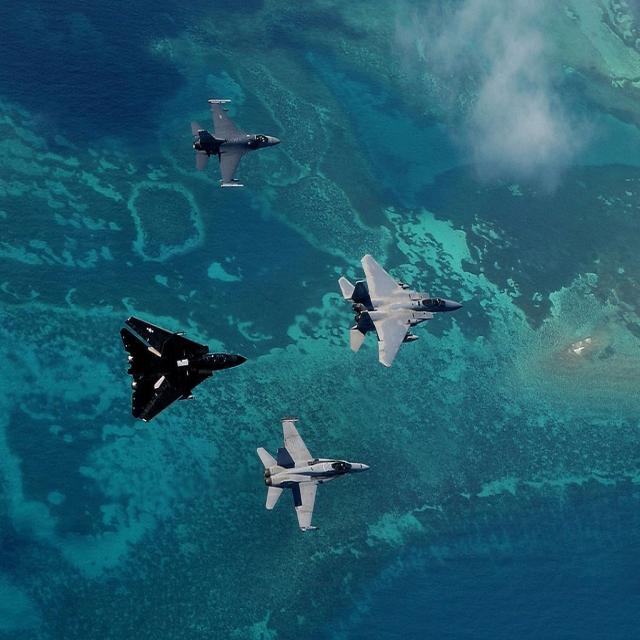MIL_Plane: (337, 253, 463, 368), (119, 315, 249, 424), (256, 417, 370, 532), (189, 102, 282, 185)
